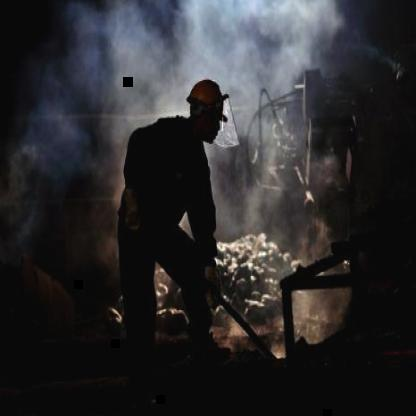helmet: (186, 77, 231, 123)
